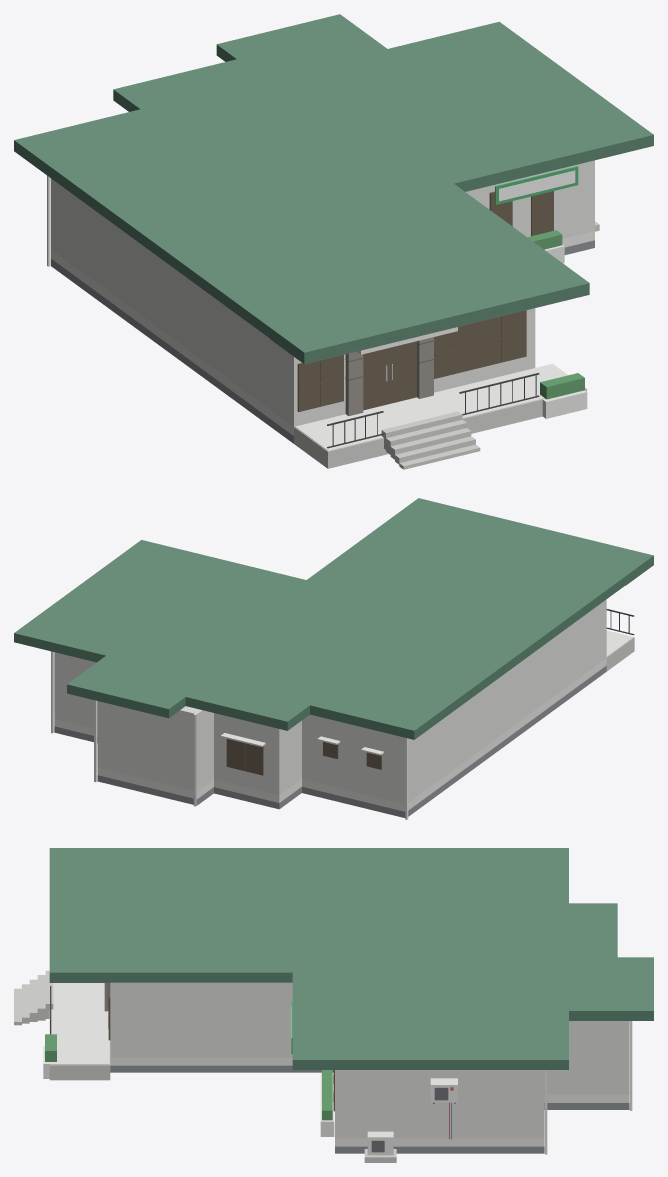
The model's file is rsbsa_building.glb.
3 renders of one model, top to bottom at view 1: azimuth 30°, elevation 25°; view 2: azimuth 150°, elevation 25°; view 3: azimuth 270°, elevation 25°, orthographic. The views are drawn at different scales.
Parts seen in each view (by area): view 1: RSBSA_Roof_Curb, RSBSA_Main_Walls, Mesh_RSBSA_PlinthWhite, RSBSA_Merged_RSBSA_BronzeFrame, RSBSA_FlatRoof_Slab, RSBSA_Merged_RSBSA_ConcreteStep, RSBSA_Wall_Plinth_Grey, RSBSA_Merged_RSBSA_StoneVeneer, RSBSA_Merged_RSBSA_PlantFoliage, RSBSA_Merged_RSBSA_SignWhite, RSBSA_Merged_RSBSA_BlackRail, RSBSA_DRRMIS_Banner; view 2: RSBSA_Roof_Curb, RSBSA_Main_Walls, Mesh_RSBSA_PlinthWhite, RSBSA_FlatRoof_Slab, RSBSA_Wall_Plinth_Grey, RSBSA_Merged_RSBSA_BronzeFrame; view 3: RSBSA_Roof_Curb, RSBSA_Main_Walls, Mesh_RSBSA_PlinthWhite, RSBSA_FlatRoof_Slab, RSBSA_Wall_Plinth_Grey, RSBSA_Merged_RSBSA_ConcreteStep, RSBSA_Merged_RSBSA_ACWhite, RSBSA_Merged_RSBSA_PlantFoliage.
Part boxes in pixels (left/top/right/bottom): RSBSA_Roof_Curb: left=14, top=14, right=653, bottom=354; RSBSA_Main_Walls: left=51, top=160, right=594, bottom=426; Mesh_RSBSA_PlinthWhite: left=47, top=175, right=594, bottom=451; RSBSA_Merged_RSBSA_BronzeFrame: left=297, top=191, right=553, bottom=411; RSBSA_FlatRoof_Slab: left=14, top=47, right=653, bottom=363; RSBSA_Merged_RSBSA_ConcreteStep: left=294, top=221, right=599, bottom=469; RSBSA_Wall_Plinth_Grey: left=51, top=240, right=594, bottom=443; RSBSA_Merged_RSBSA_StoneVeneer: left=345, top=337, right=433, bottom=415; RSBSA_Merged_RSBSA_PlantFoliage: left=527, top=230, right=584, bottom=399; RSBSA_Merged_RSBSA_SignWhite: left=498, top=170, right=575, bottom=201; RSBSA_Merged_RSBSA_BlackRail: left=327, top=373, right=539, bottom=448; RSBSA_DRRMIS_Banner: left=495, top=166, right=578, bottom=204; RSBSA_Roof_Curb: left=14, top=498, right=653, bottom=732; RSBSA_Main_Walls: left=54, top=599, right=606, bottom=803; Mesh_RSBSA_PlinthWhite: left=51, top=630, right=633, bottom=819; RSBSA_FlatRoof_Slab: left=14, top=558, right=653, bottom=739; RSBSA_Wall_Plinth_Grey: left=54, top=665, right=606, bottom=817; RSBSA_Merged_RSBSA_BronzeFrame: left=226, top=739, right=381, bottom=775; RSBSA_Roof_Curb: left=49, top=848, right=653, bottom=1061; RSBSA_Main_Walls: left=110, top=982, right=629, bottom=1138; Mesh_RSBSA_PlinthWhite: left=43, top=983, right=632, bottom=1154; RSBSA_FlatRoof_Slab: left=49, top=975, right=653, bottom=1069; RSBSA_Wall_Plinth_Grey: left=110, top=1065, right=629, bottom=1153; RSBSA_Merged_RSBSA_ConcreteStep: left=14, top=970, right=396, bottom=1162; RSBSA_Merged_RSBSA_ACWhite: left=367, top=1078, right=457, bottom=1155; RSBSA_Merged_RSBSA_PlantFoliage: left=45, top=1034, right=332, bottom=1120.
Bounding box in the file's own units: 16.5 × 3.96 × 21.07.
